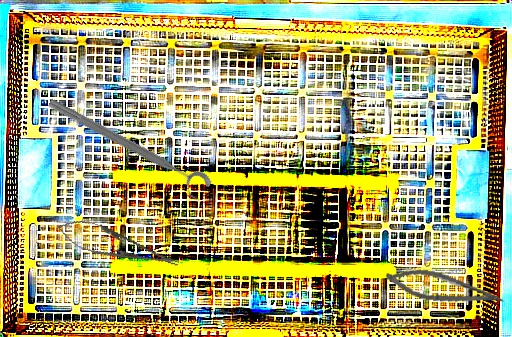Fixation Ring: (40, 93, 214, 205)
Micro Scissor: (383, 263, 507, 312)
Needle Holder: (52, 212, 183, 279)
